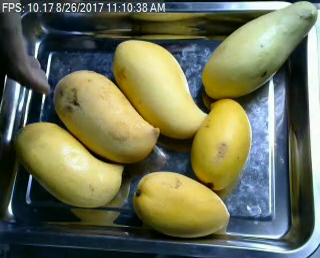Mango: (197, 0, 318, 100), (51, 68, 160, 165), (11, 120, 124, 212), (110, 37, 211, 134), (131, 170, 233, 240), (188, 98, 256, 190)
